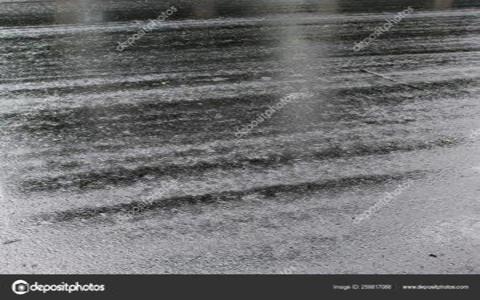Proper road: (61, 7, 363, 231)
